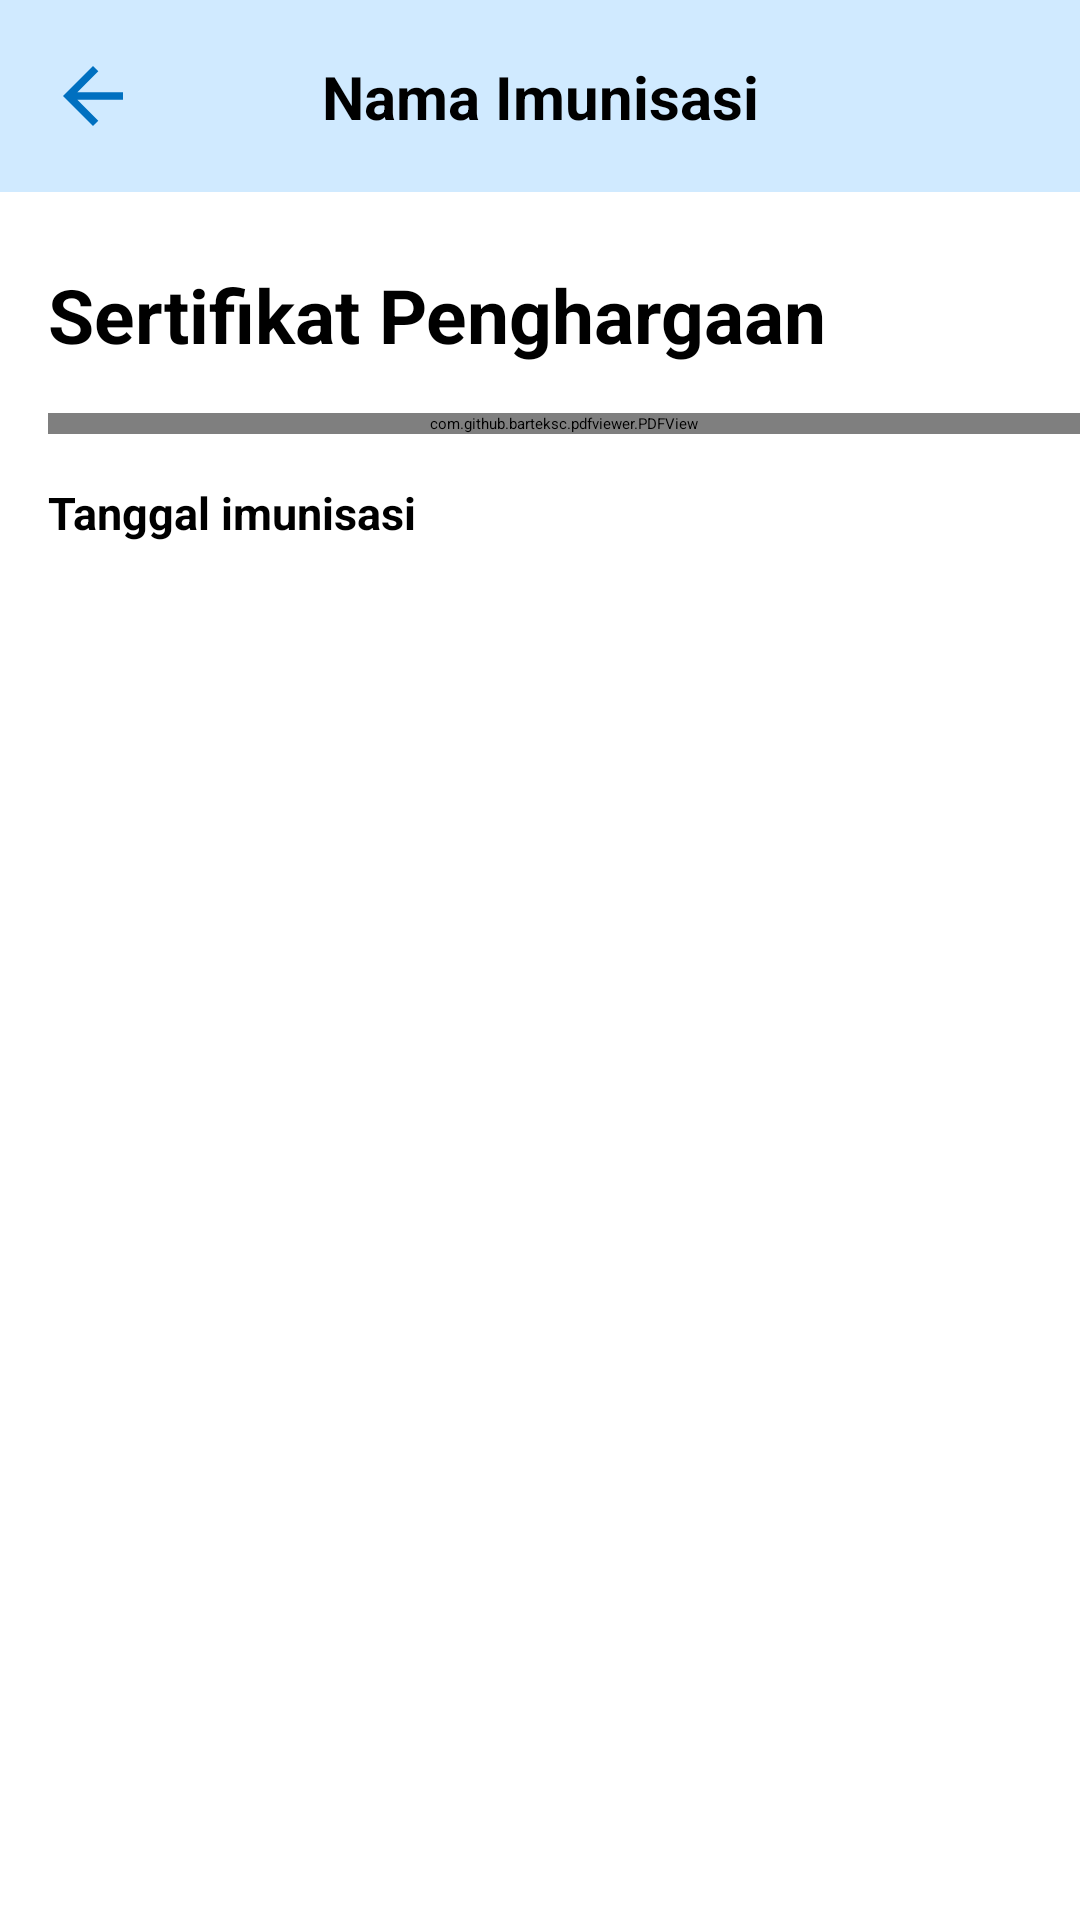

Icon bounding boxes for this 1080w x 1920h phone screenshot, format region(x1, y1, x2, y2):
arrow back: region(63, 66, 123, 126)
